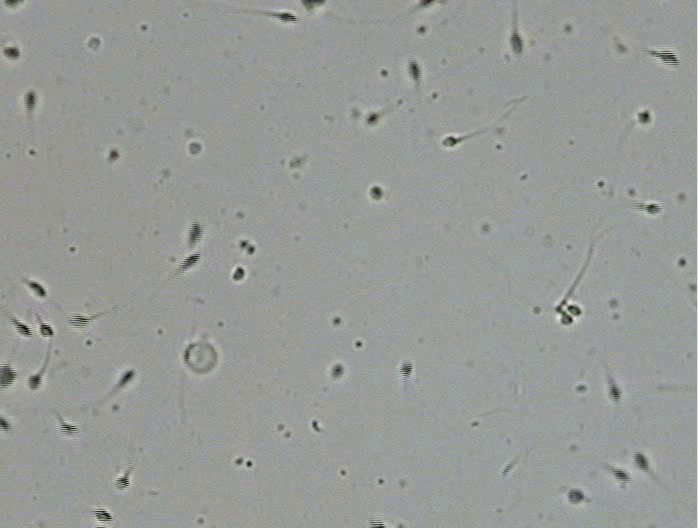Impurity: (183, 342, 218, 373), (88, 38, 100, 48)
S: (654, 50, 679, 67), (1, 363, 17, 388), (179, 252, 201, 270), (13, 320, 33, 337), (632, 452, 649, 472), (188, 222, 202, 246), (27, 281, 46, 298), (510, 32, 524, 54), (276, 12, 299, 24), (70, 314, 89, 328), (407, 61, 421, 80), (612, 468, 631, 482), (608, 383, 621, 403), (118, 369, 133, 386), (60, 422, 78, 436), (24, 91, 36, 111), (95, 509, 113, 522), (39, 322, 54, 337), (27, 374, 42, 389), (568, 489, 583, 504), (3, 47, 20, 60), (302, 1, 326, 10), (400, 360, 413, 376), (114, 477, 130, 489), (645, 203, 662, 214), (637, 110, 650, 124), (233, 266, 245, 281), (442, 136, 458, 147), (368, 518, 385, 528), (331, 365, 344, 378), (370, 186, 382, 200), (1, 416, 11, 432), (3, 1, 24, 8), (561, 313, 573, 325), (567, 305, 581, 315), (367, 114, 379, 125), (190, 143, 201, 154), (109, 150, 119, 160), (419, 1, 433, 7)
